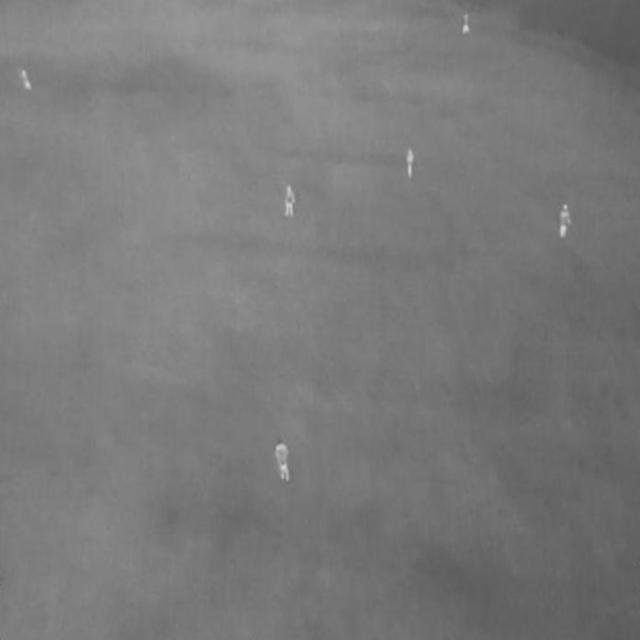person: (275, 438, 290, 485), (558, 204, 573, 243), (284, 184, 298, 220), (18, 69, 32, 94), (406, 148, 415, 181), (461, 11, 471, 36)
